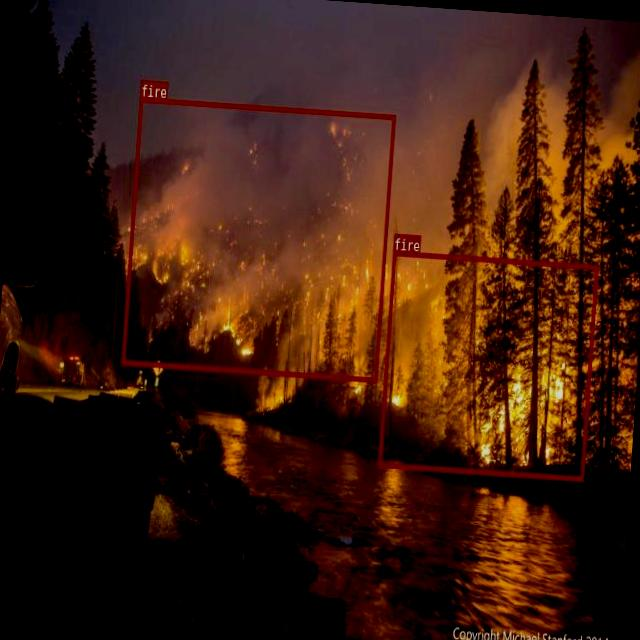fire: (120, 96, 394, 381), (377, 250, 598, 480)
